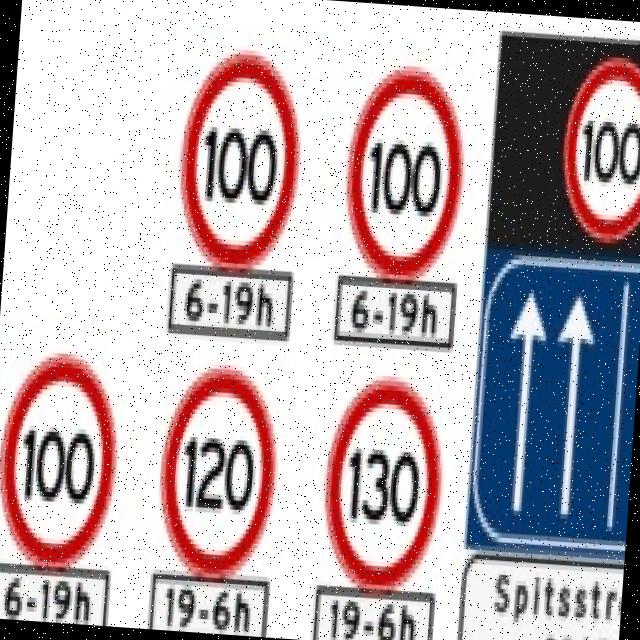speed_limit_100: (168, 31, 307, 278), (337, 56, 471, 284), (0, 346, 124, 571), (551, 53, 640, 244)
speed_limit_120: (150, 363, 285, 582)
